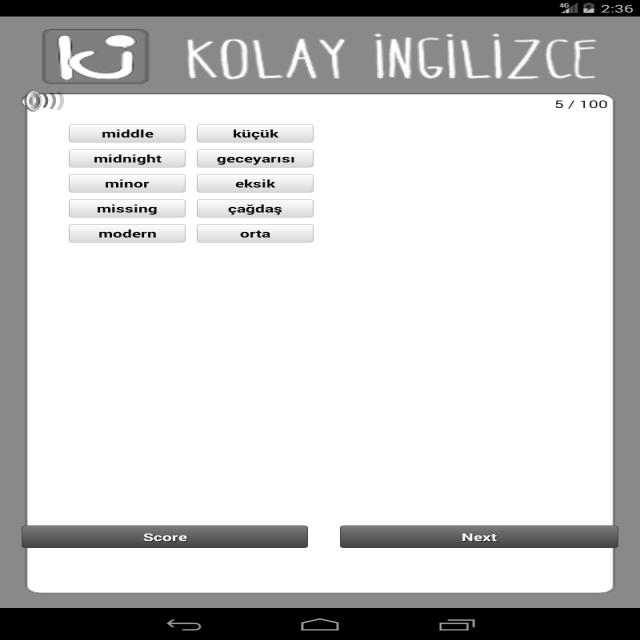Button: (12, 520, 311, 554), (332, 520, 625, 552), (188, 120, 323, 144), (190, 222, 319, 247), (62, 170, 190, 193)
ImageView: (46, 32, 140, 80), (19, 91, 70, 111)
